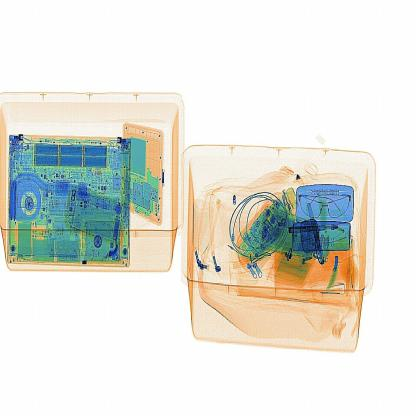wrench: (329, 255, 345, 292)
